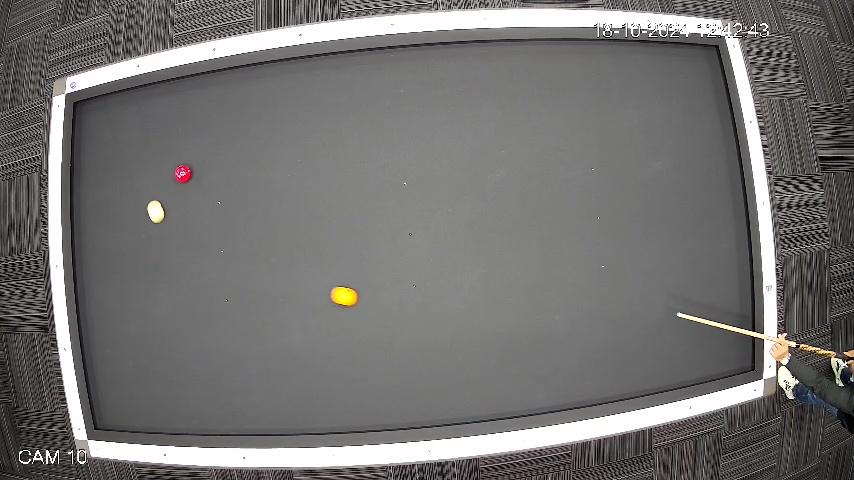Red: (173, 163, 193, 184)
White: (146, 199, 166, 225)
Yellow: (328, 286, 360, 308)
